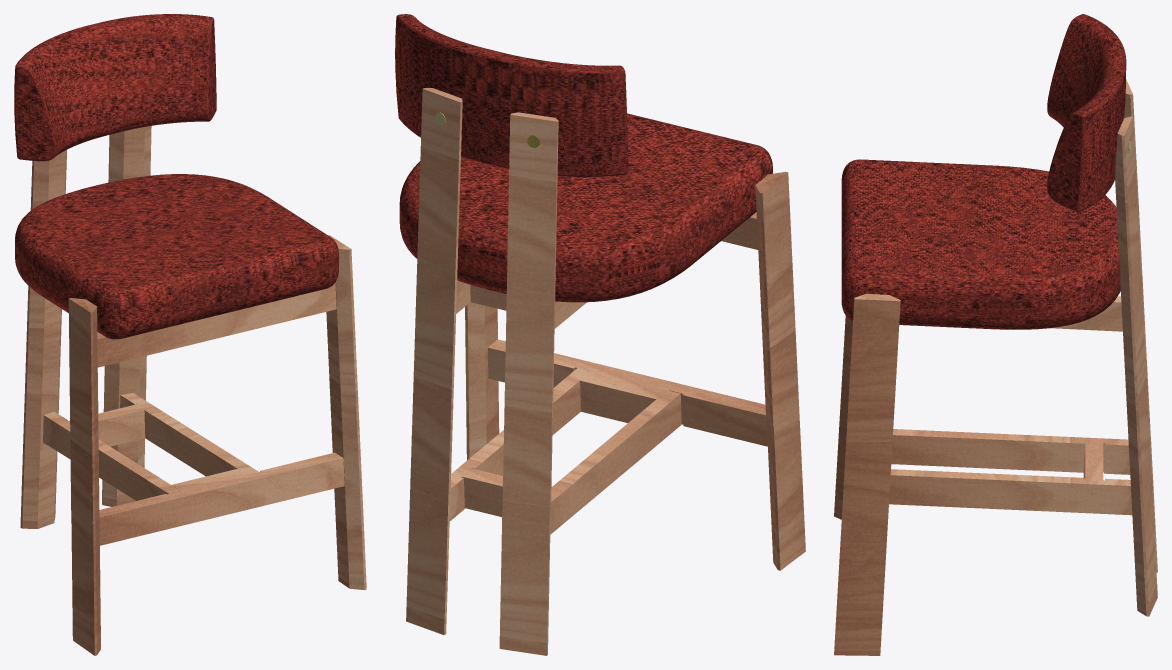
Rendered from cassa-banqueta.glb.
The picture shows the model from 3 angles, left to right: view 1: azimuth 30°, elevation 25°; view 2: azimuth 150°, elevation 25°; view 3: azimuth 270°, elevation 25°; orthographic projection. The views are drawn at different scales.
Visible parts, largest first — view 1: Geom3D_Estofado, Geom3D_Marcenaria (×2); view 2: Geom3D_Marcenaria (×2), Geom3D_Estofado; view 3: Geom3D_Estofado, Geom3D_Marcenaria (×2).
Boxes of the visible parts, x1,y1,x2,y2 form: Geom3D_Estofado: [14, 14, 338, 339]; Geom3D_Marcenaria (×2): [20, 126, 366, 655]; Geom3D_Marcenaria (×2): [406, 88, 805, 655]; Geom3D_Estofado: [395, 14, 772, 302]; Geom3D_Estofado: [841, 14, 1126, 329]; Geom3D_Marcenaria (×2): [834, 79, 1157, 655].
Size of the model in its own units: 0.5765 by 1.01 by 0.5634.
3 materials, 3 textured.
